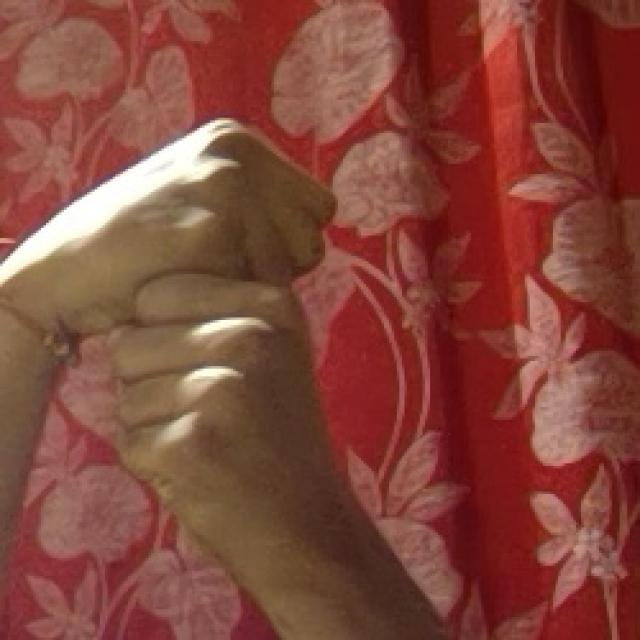Alphabet-g: (28, 110, 388, 584)
